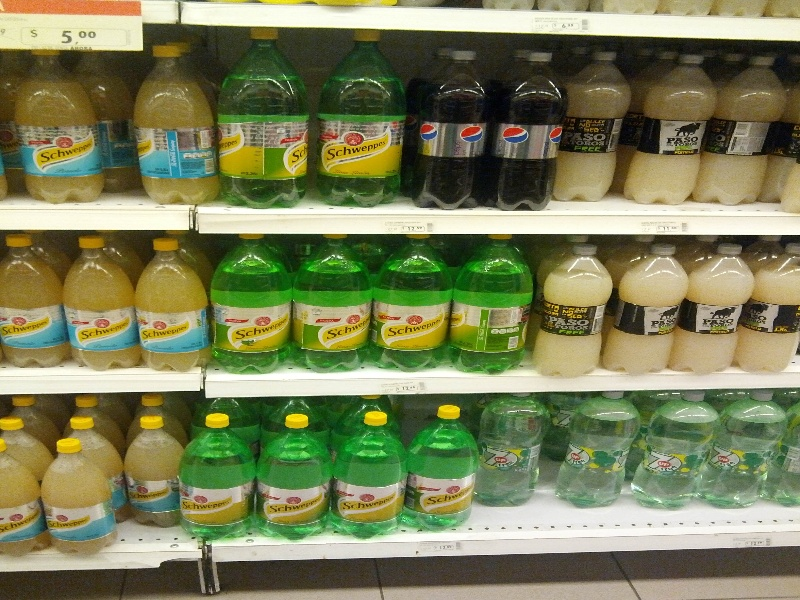lemonade: (218, 28, 313, 203), (308, 31, 404, 203), (134, 43, 222, 203), (622, 54, 712, 204), (57, 235, 144, 371), (413, 52, 487, 207), (455, 232, 530, 374), (490, 53, 558, 208), (370, 236, 450, 366), (554, 53, 622, 201), (328, 409, 405, 536), (138, 238, 212, 369), (609, 243, 680, 379), (39, 439, 122, 555), (181, 413, 254, 543), (406, 406, 477, 535), (258, 413, 330, 537), (540, 245, 608, 376)
